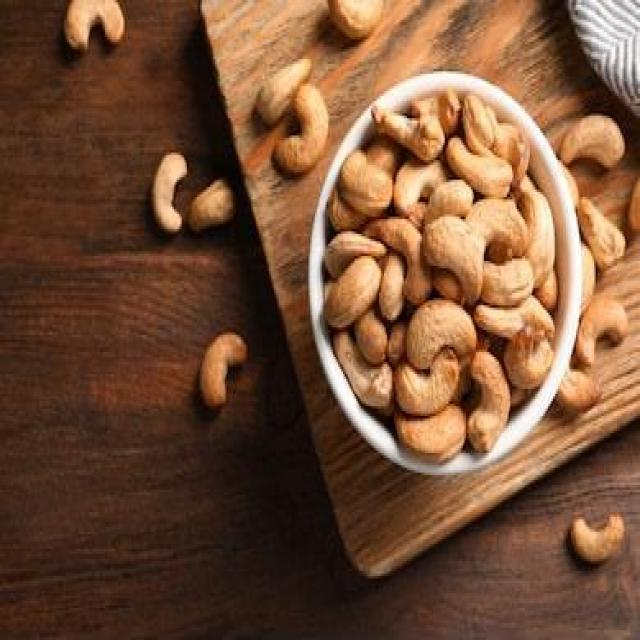cashew: (558, 488, 640, 584), (194, 293, 244, 438), (419, 210, 498, 297), (135, 130, 190, 248), (573, 179, 638, 272), (567, 102, 640, 178), (470, 346, 514, 457), (580, 282, 636, 364), (338, 132, 384, 222), (392, 358, 472, 409), (388, 420, 479, 463), (328, 256, 383, 323), (56, 0, 131, 48), (412, 304, 484, 351), (315, 0, 398, 40), (195, 171, 239, 245), (253, 49, 308, 100), (560, 362, 600, 425), (294, 97, 324, 170)
